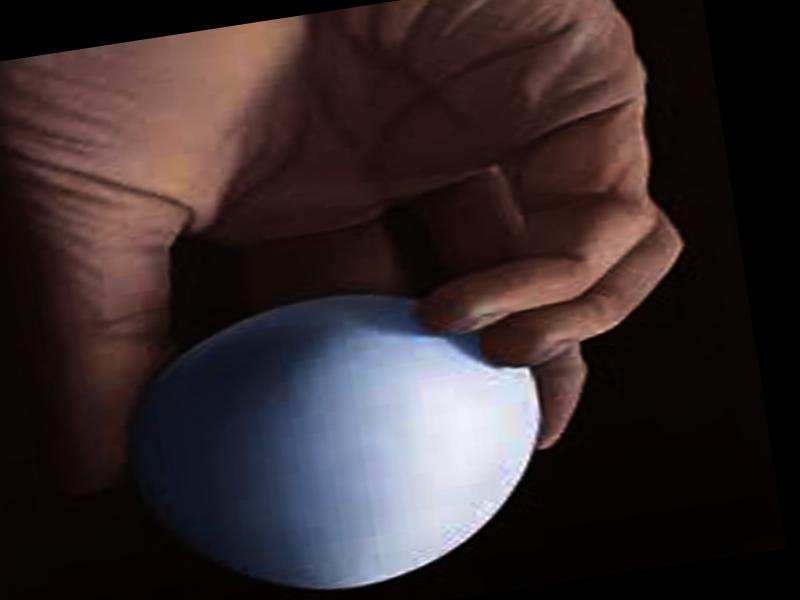Eggs: (116, 270, 567, 600)
